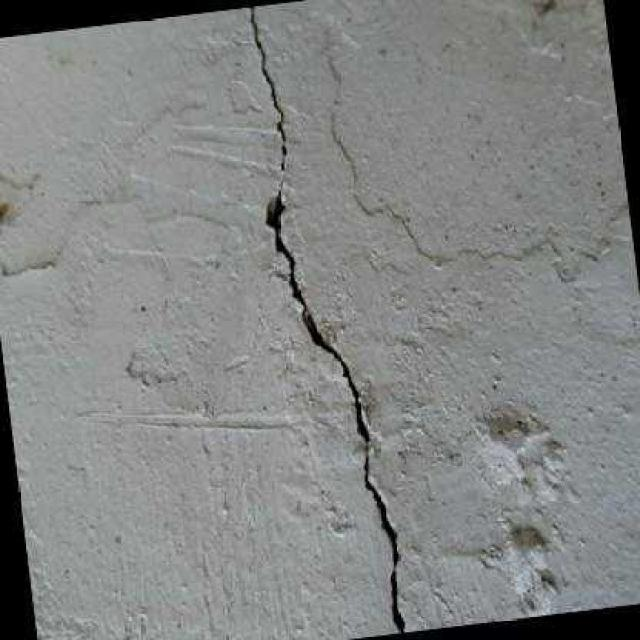D00: (248, 6, 404, 632)
